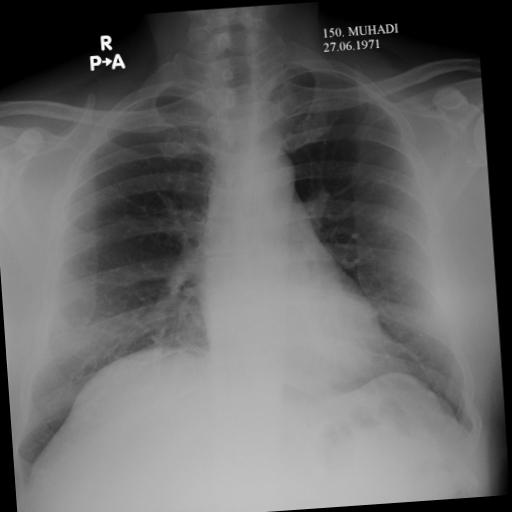normal: (0, 36, 493, 486)
